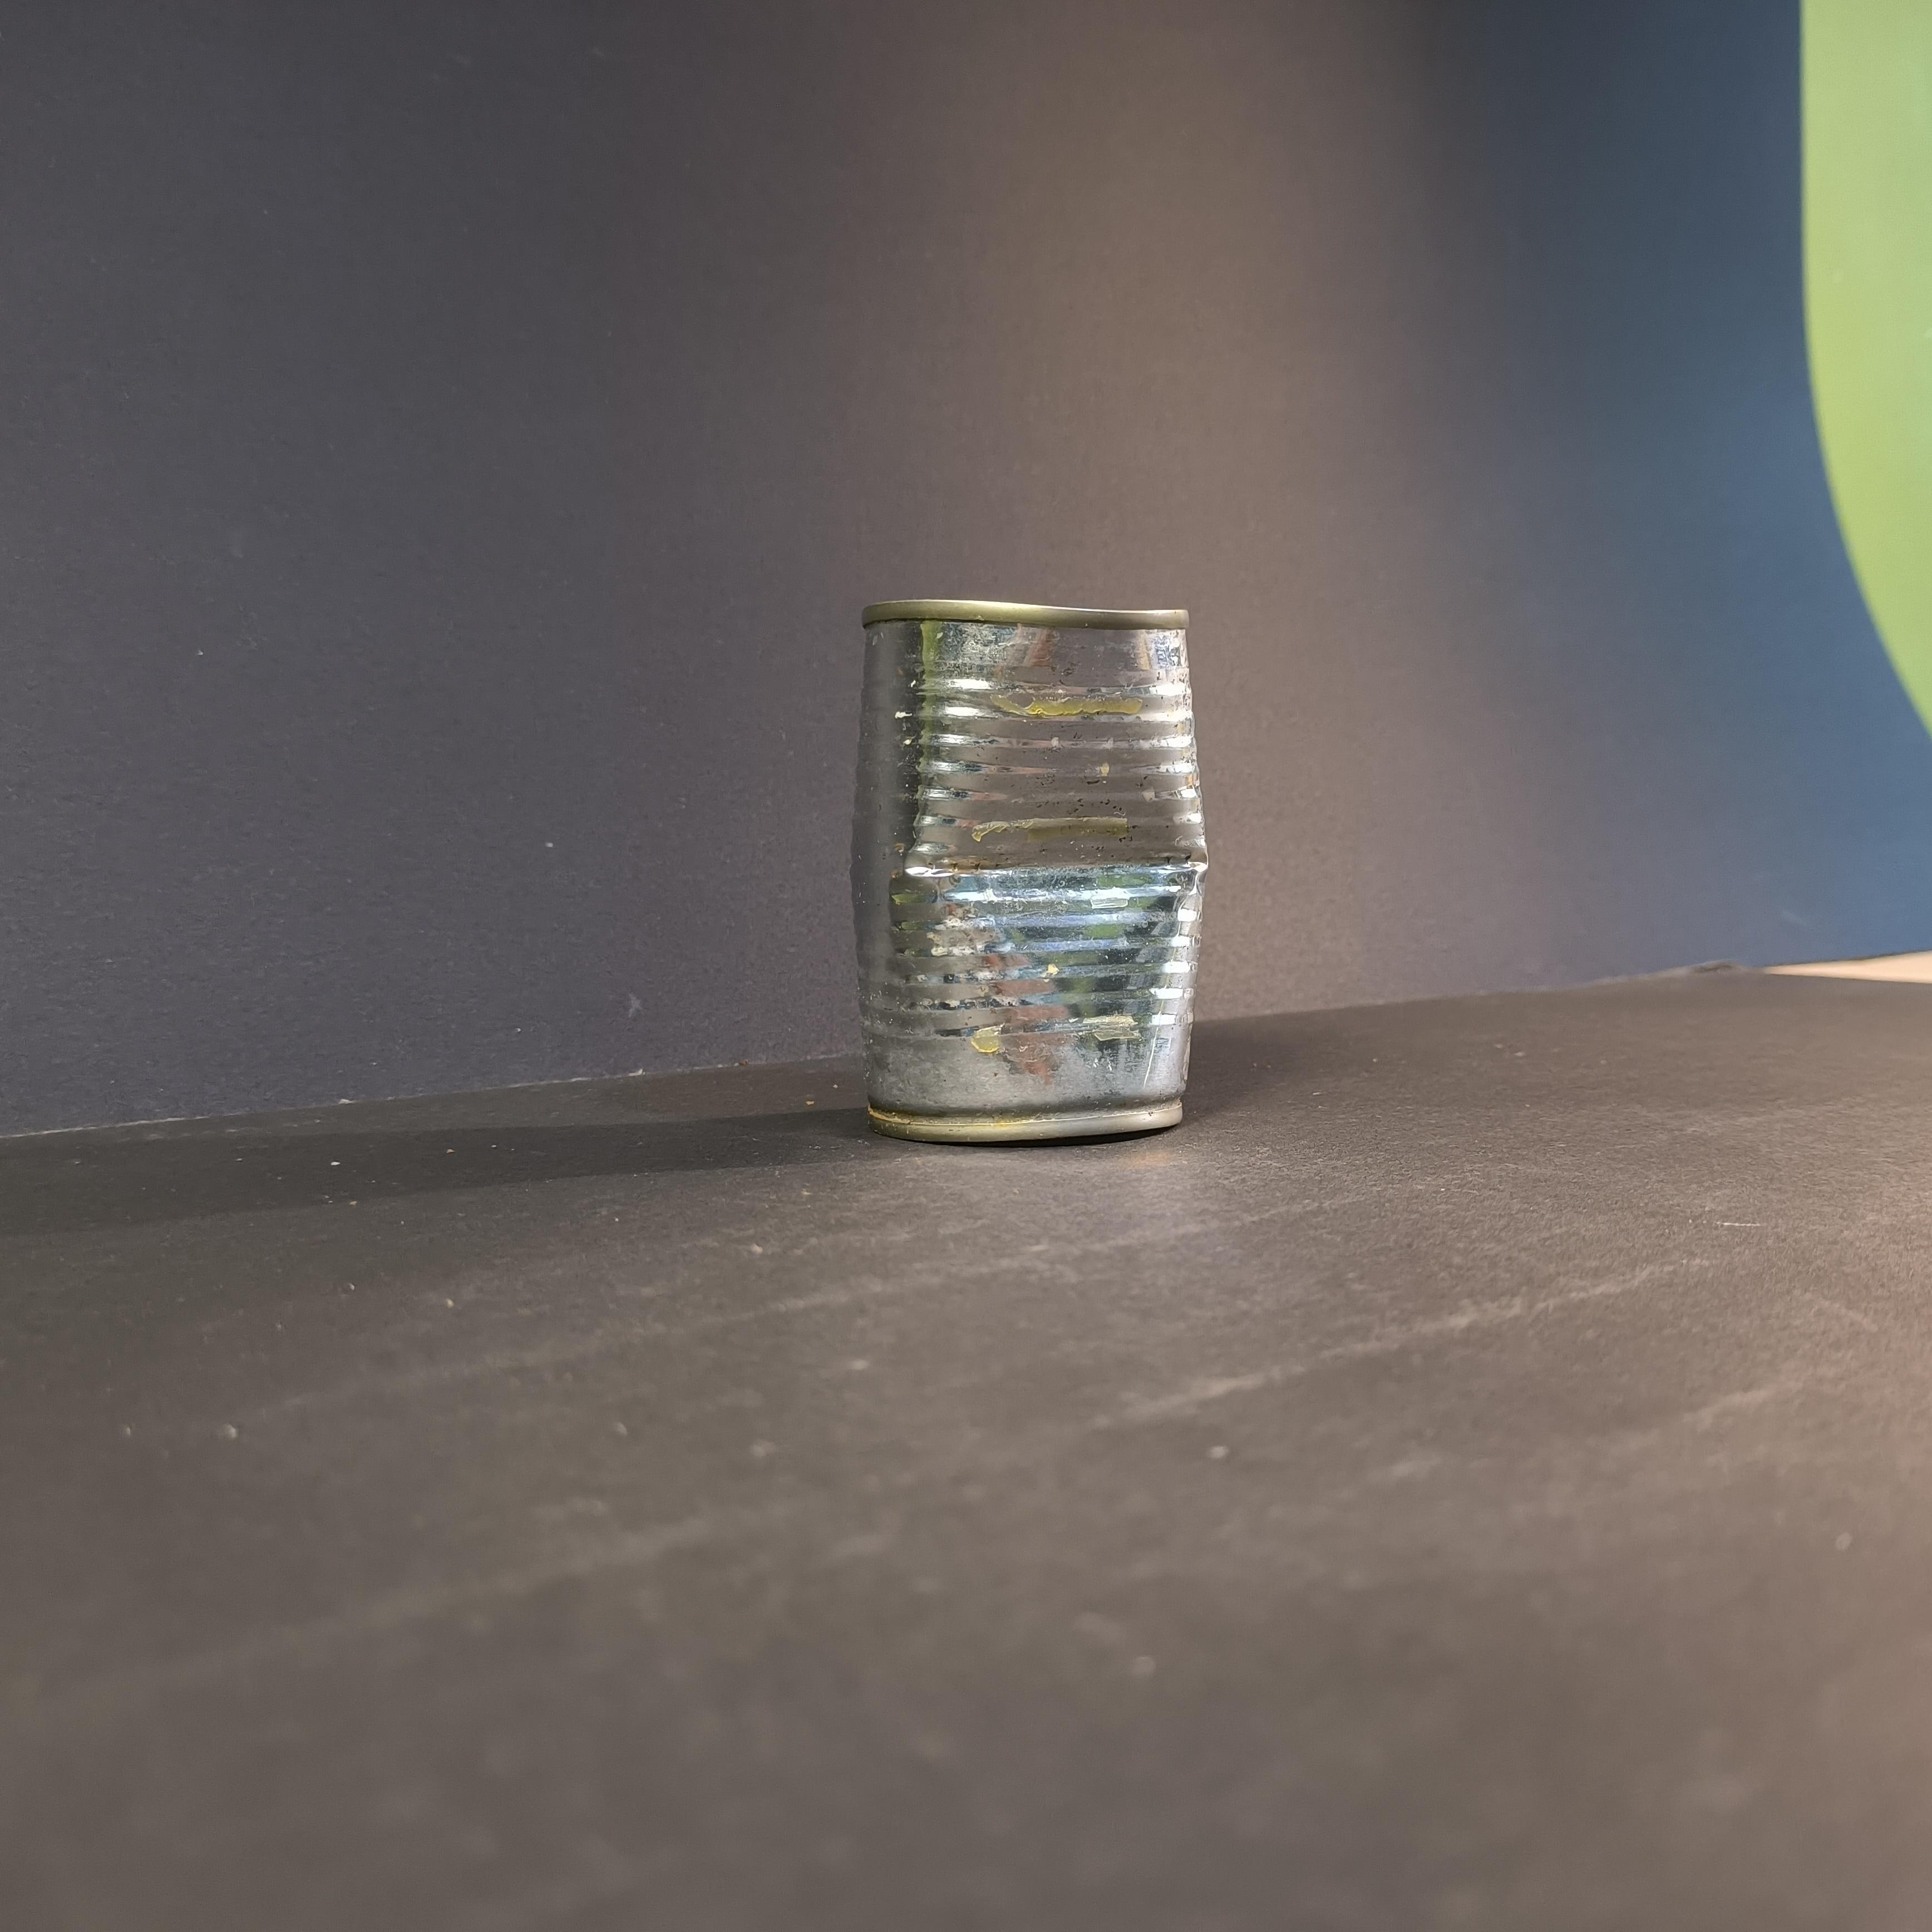Dented: (830, 554, 1210, 1171)
